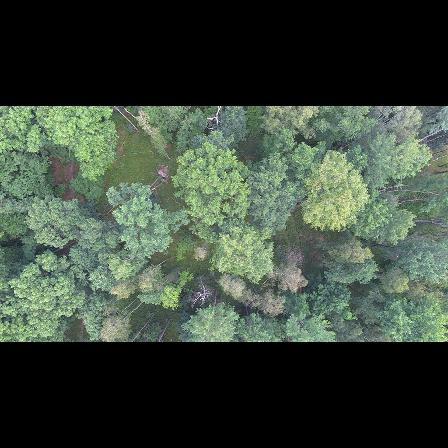Dead: (186, 278, 217, 313), (206, 107, 227, 133)
